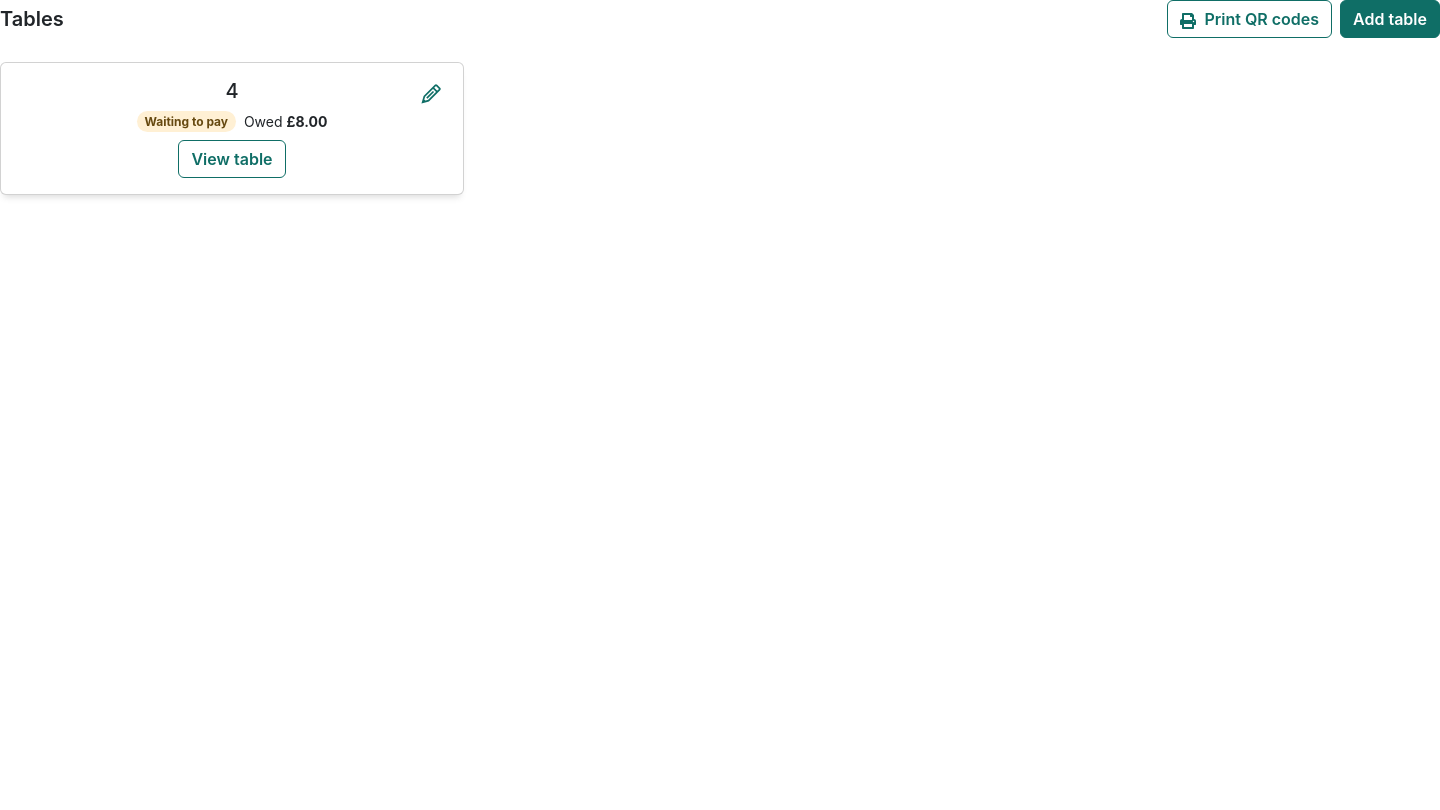
Test: table sheet actions › doesn't say a refunded cart will be deleted: its payment record stays
Click the button with aria-label "View table 4" at (232,159), box top-left (178, 140), bottom-right (286, 178)
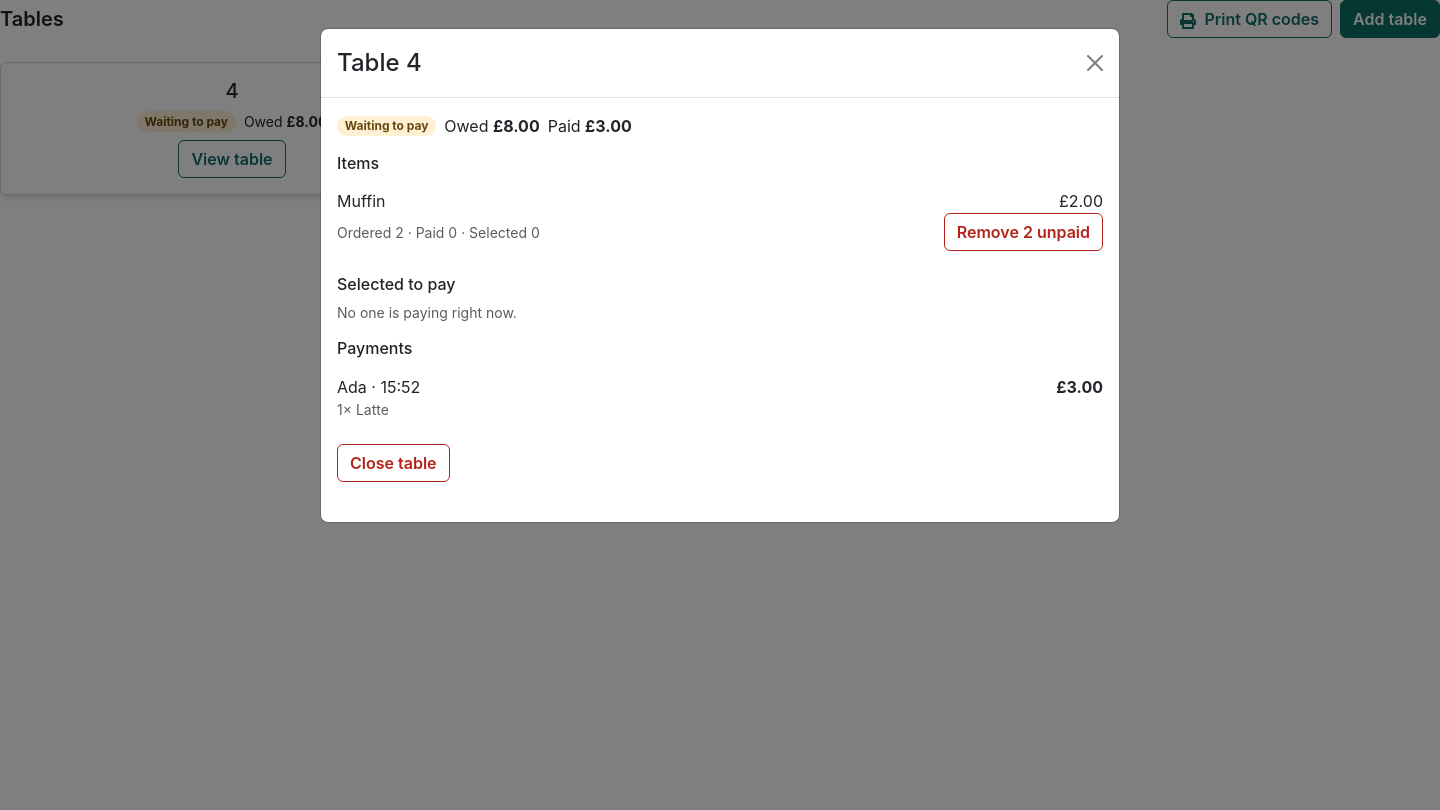
Click the button "Close table" at (393,463), box top-left (337, 444), bottom-right (450, 482)
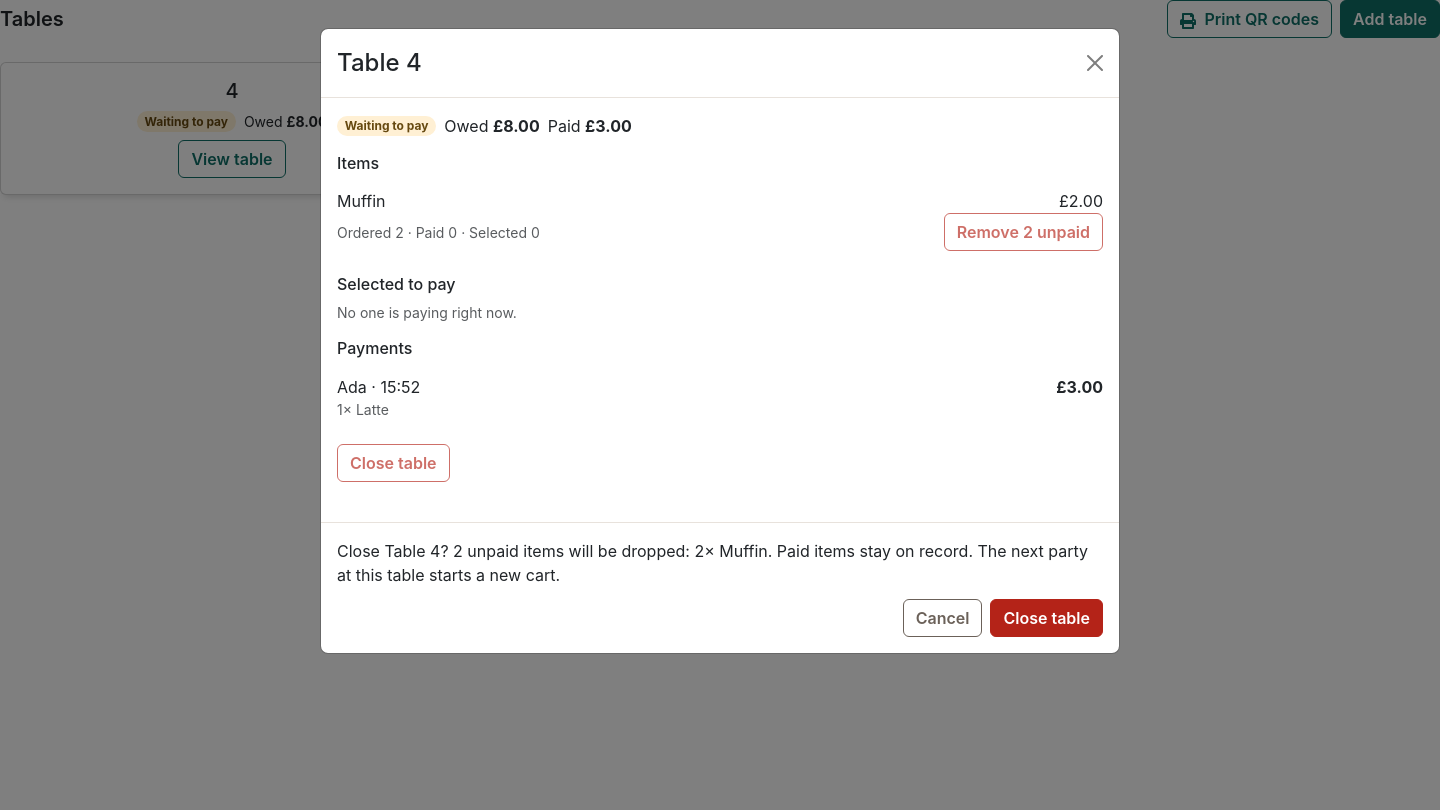
Check: the text "Close Table 4?" shows "2 unpaid items will be dropped: 2× Muffin. Paid items stay on record.", box top-left (337, 541), bottom-right (1088, 585)
